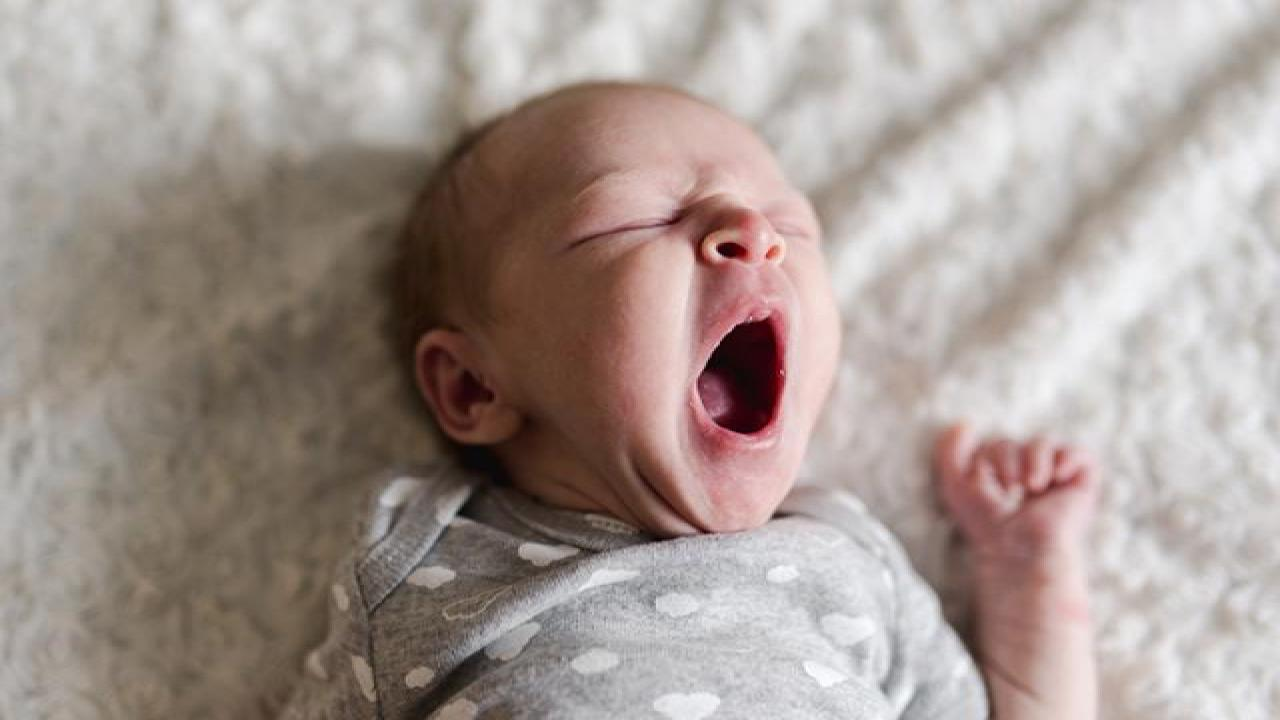hand: (931, 424, 1094, 535)
